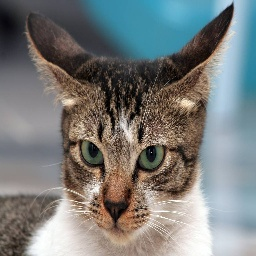cat: (21, 10, 232, 256)
